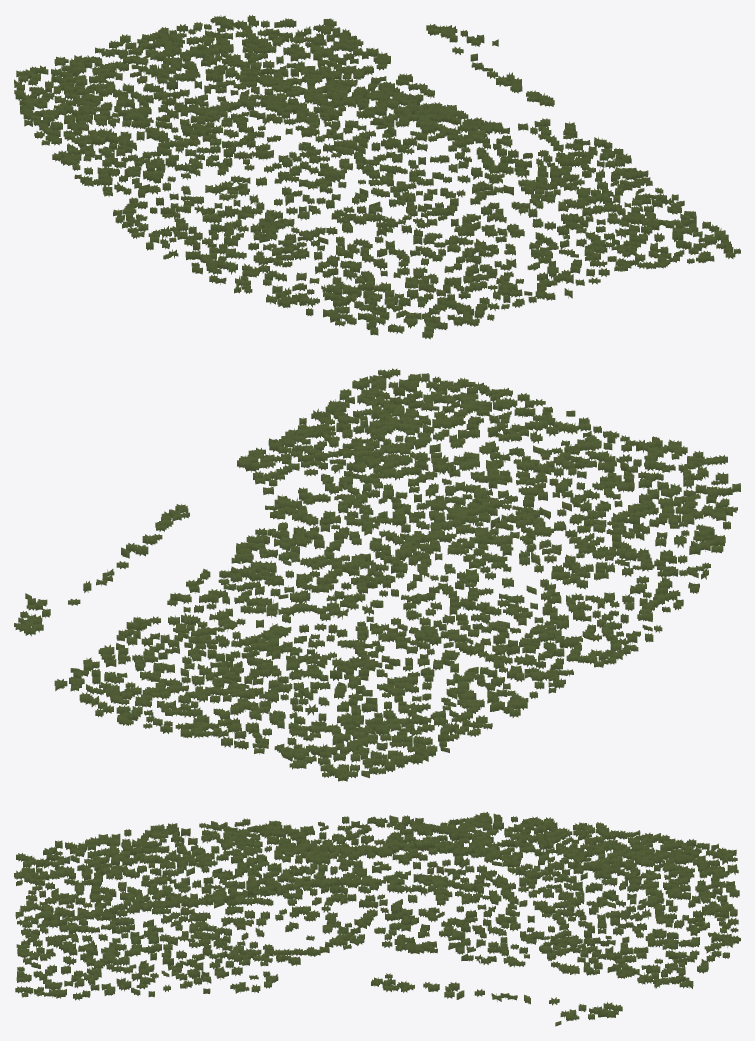
The model's file is TRB8-GRASS-CHUNK-0-5.glb.
3 renders of one model, top to bottom at view 1: azimuth 30°, elevation 25°; view 2: azimuth 150°, elevation 25°; view 3: azimuth 270°, elevation 25°, orthographic. The views are drawn at different scales.
Visible parts, largest first — view 1: TRB8-GRASS-CHUNK-0-5; view 2: TRB8-GRASS-CHUNK-0-5; view 3: TRB8-GRASS-CHUNK-0-5.
Part boxes in pixels (x1,y1,x2,y2): TRB8-GRASS-CHUNK-0-5: [14, 15, 740, 339]; TRB8-GRASS-CHUNK-0-5: [14, 368, 740, 781]; TRB8-GRASS-CHUNK-0-5: [14, 812, 740, 1026].
Size of the model in its own units: 28.14 by 4.01 by 40.47.
1 material, 1 textured.
